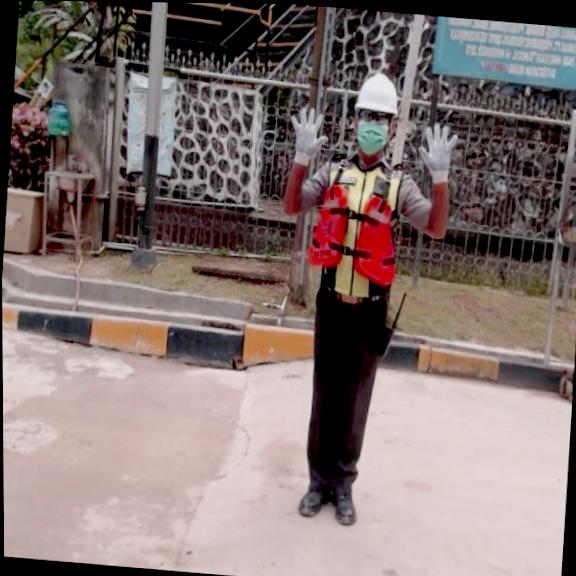safety_vest: (302, 179, 402, 290)
